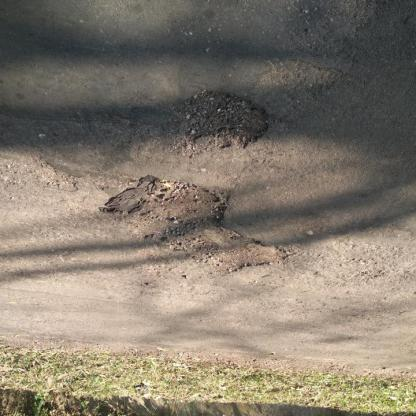pothole: (116, 180, 292, 281), (171, 90, 274, 154)
